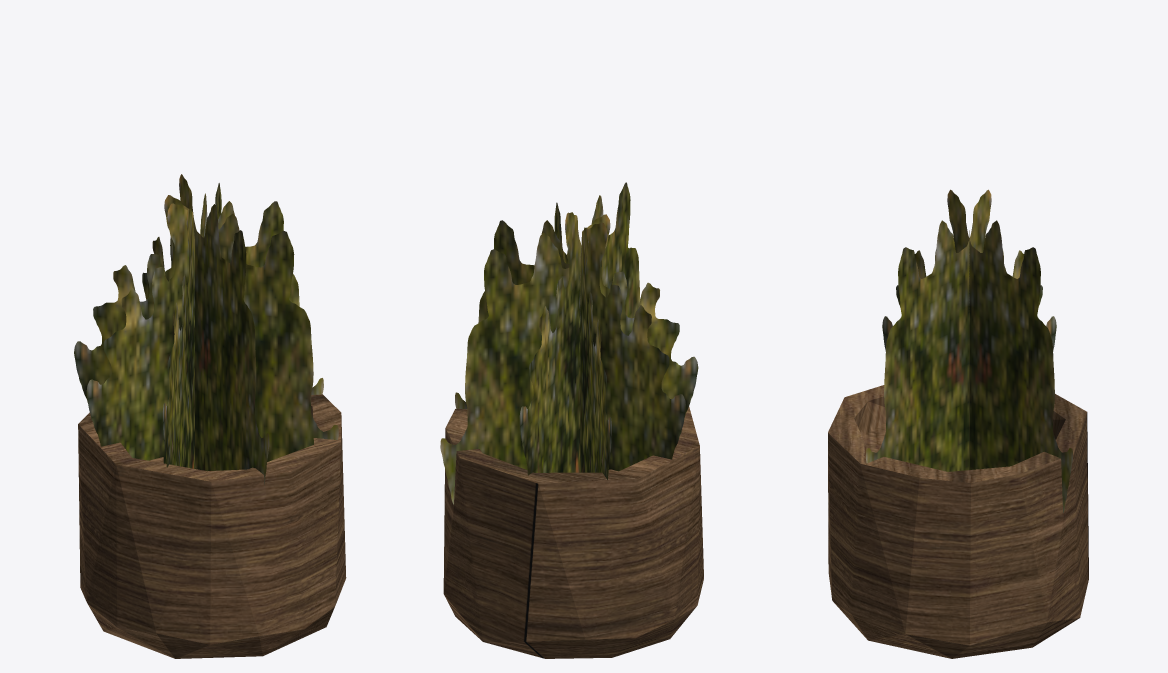
Rendered from PLANT_02.fbx.
The picture shows the model from 3 angles, left to right: view 1: azimuth 30°, elevation 25°; view 2: azimuth 150°, elevation 25°; view 3: azimuth 270°, elevation 25°; orthographic projection. The views are drawn at different scales.
Parts seen in each view (by area): view 1: PLANT_02; view 2: PLANT_02; view 3: PLANT_02.
Part boxes in pixels (box(x1,y1,x2,y2)): PLANT_02: box(74, 174, 346, 658); PLANT_02: box(440, 182, 703, 658); PLANT_02: box(828, 189, 1088, 658).
Bounding box in the file's own units: 63.07 × 104 × 63.07.
